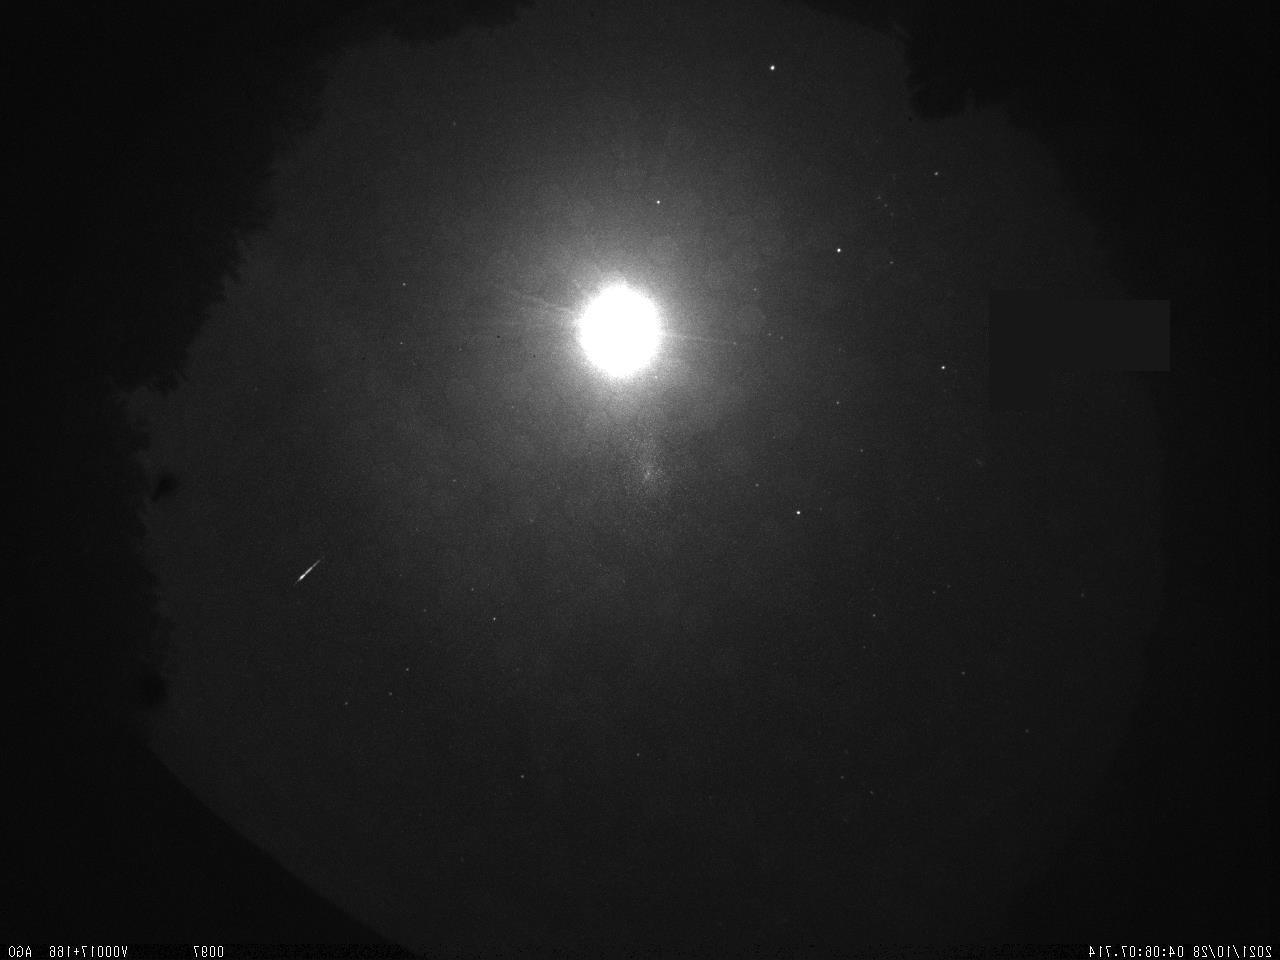meteor: (283, 544, 335, 601)
